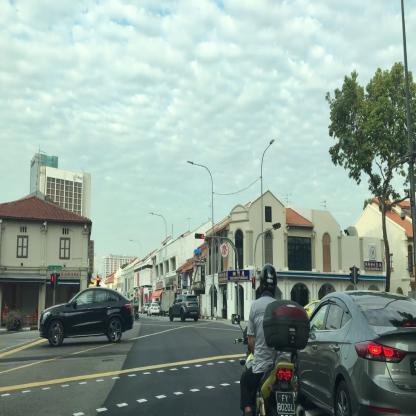red_traffic_light: (194, 233, 204, 239)
